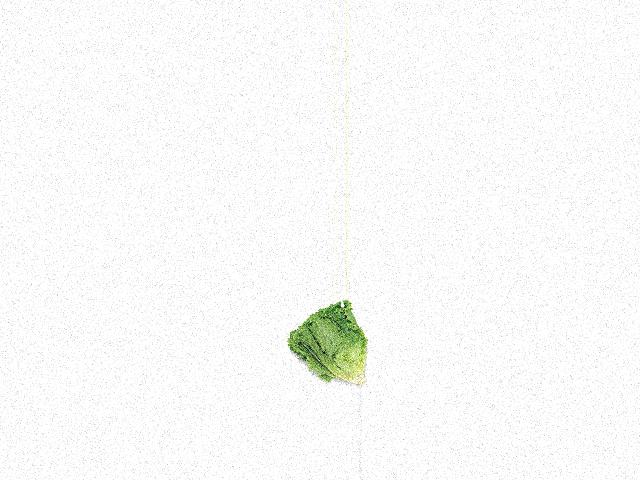lettuce: (280, 300, 374, 388)
